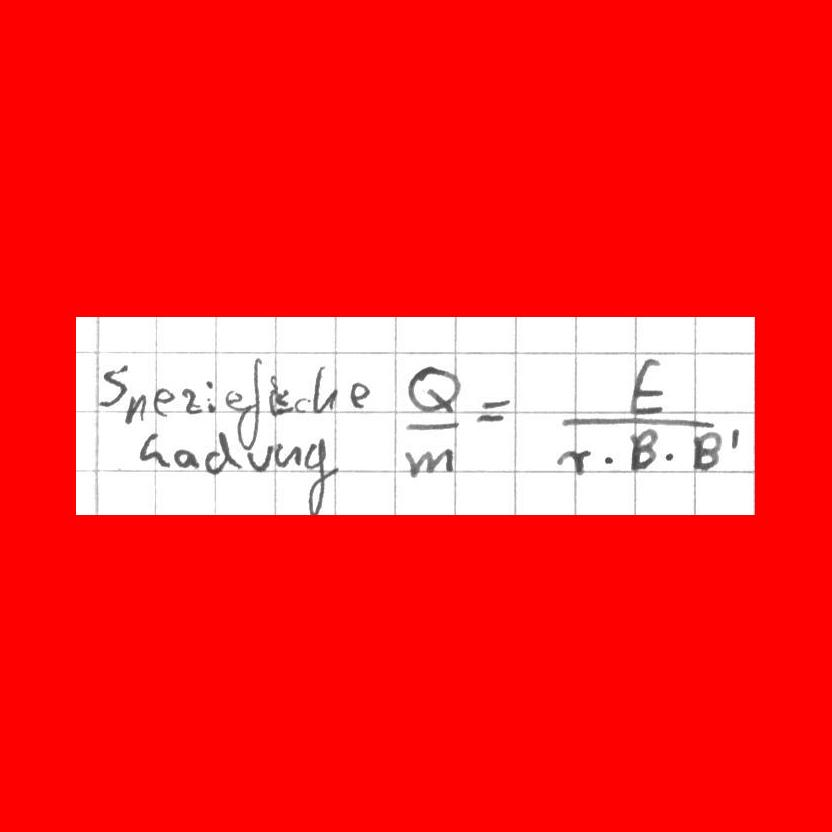Char: (301, 435, 345, 515), (558, 413, 715, 431), (624, 353, 668, 417), (406, 362, 460, 414), (237, 352, 263, 447), (402, 443, 461, 478), (202, 427, 242, 475), (310, 361, 341, 413), (626, 425, 661, 471), (99, 361, 130, 412), (688, 427, 723, 470), (137, 428, 172, 469), (395, 414, 460, 435), (474, 392, 514, 426), (554, 445, 592, 476), (122, 389, 147, 427), (273, 439, 303, 470), (245, 444, 274, 472), (149, 385, 172, 418), (219, 388, 249, 412), (172, 446, 198, 471), (181, 384, 203, 413), (348, 377, 369, 407), (204, 378, 220, 416), (292, 393, 312, 414), (597, 448, 617, 468), (728, 425, 742, 453), (663, 445, 676, 464)
